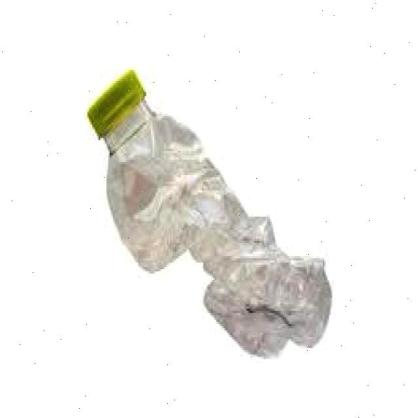bottle: (82, 66, 336, 360)
cap: (76, 67, 153, 147)
